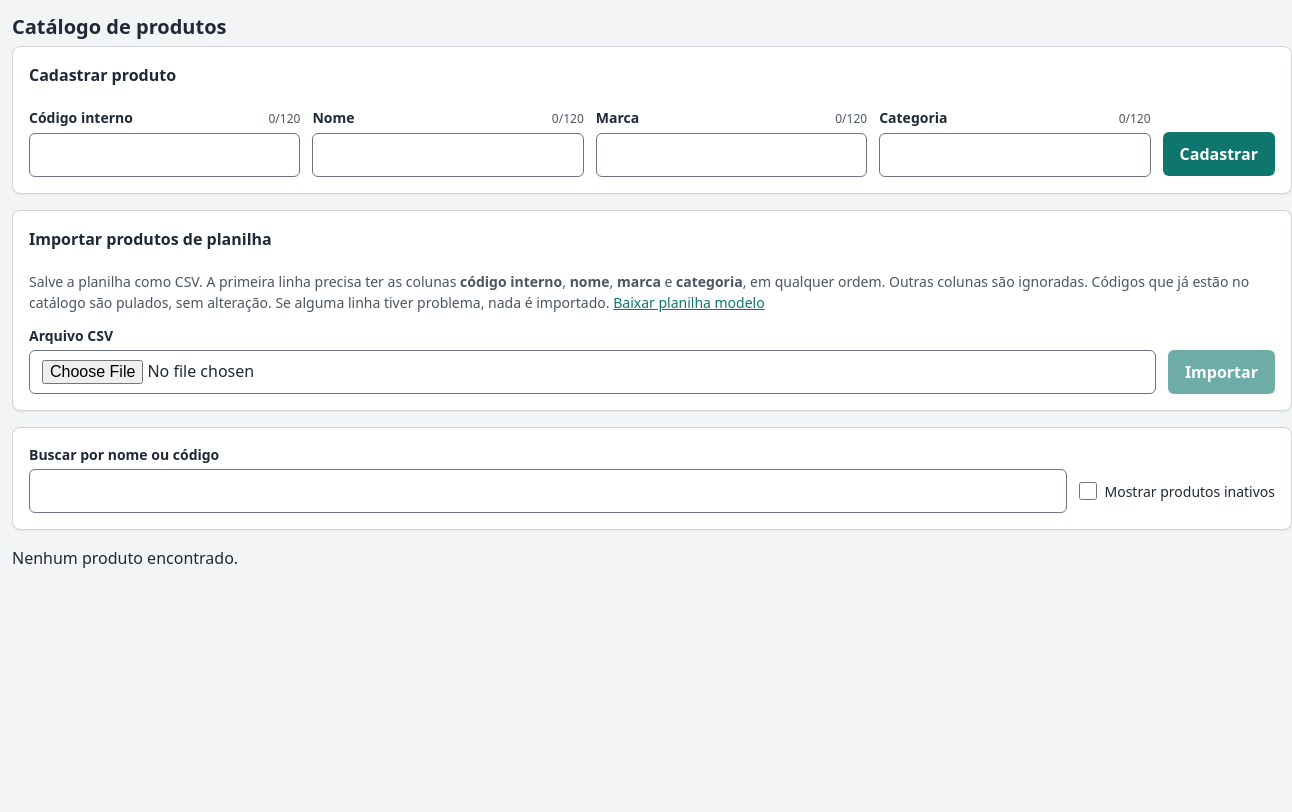
Test case: TelaProdutos (RF02) › busca em tempo real (T26) › ignora a resposta de um termo antigo que chega depois da do termo atual
The width and height of the screenshot is (1292, 812).
Expected: the text "Nenhum produto encontrado." is shown, [12, 547, 238, 569]
Type "col" into the field labelled "Buscar por nome ou código" at (548, 491), box [29, 469, 1066, 513]
Wait 300 ms
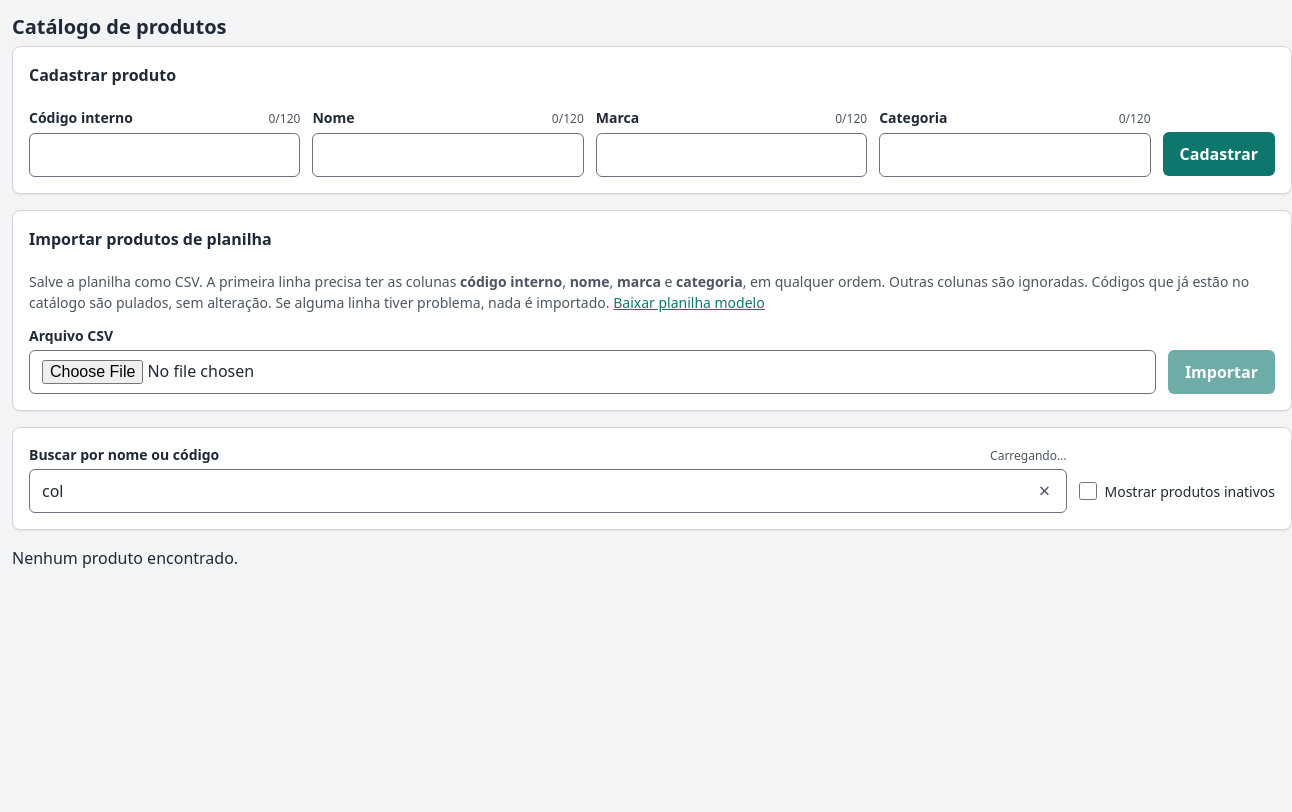
Replace the text in the field labelled "Buscar por nome ou código" with "colônia" at (548, 491), box [29, 469, 1066, 513]
Wait 300 ms
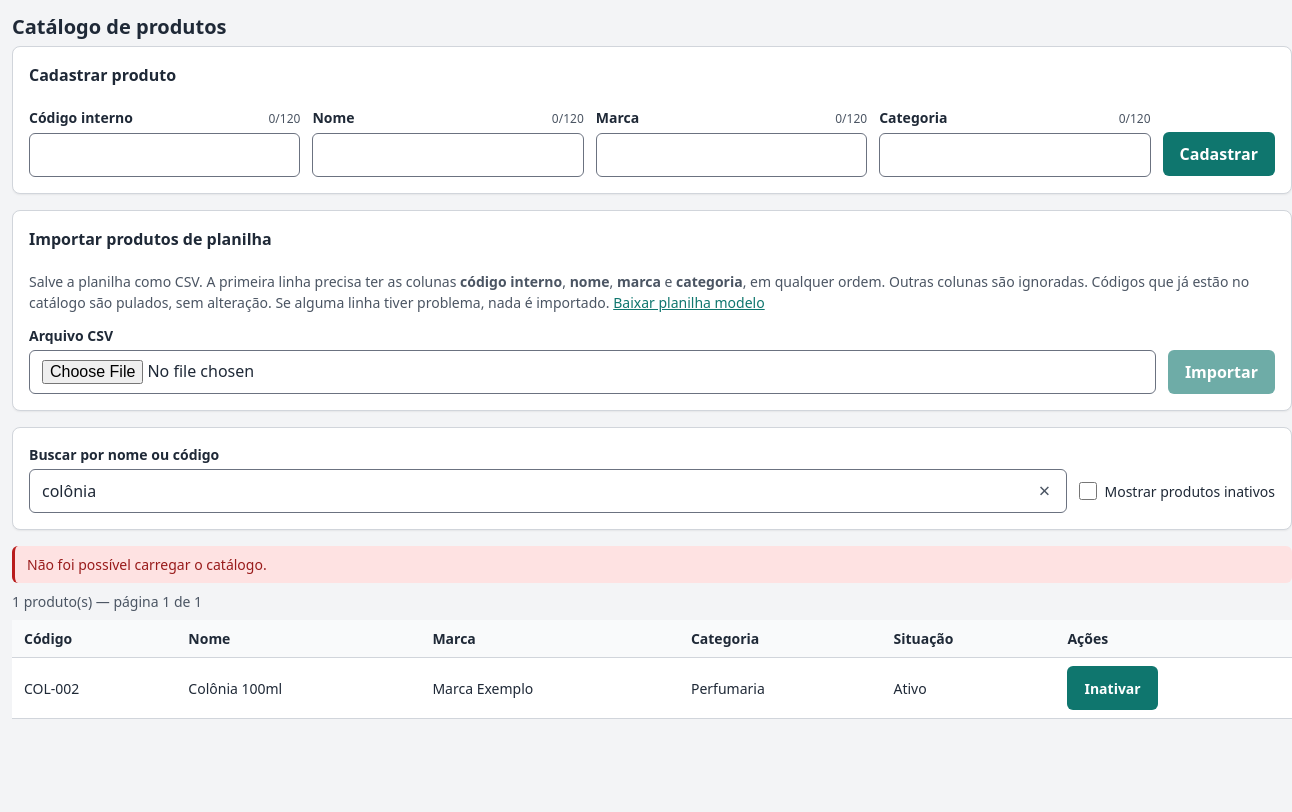
Result: the text "COL-002" is shown at [12, 658, 176, 718]
Result: the text "1 produto(s) — página 1 de 1" is shown at [12, 592, 202, 611]
